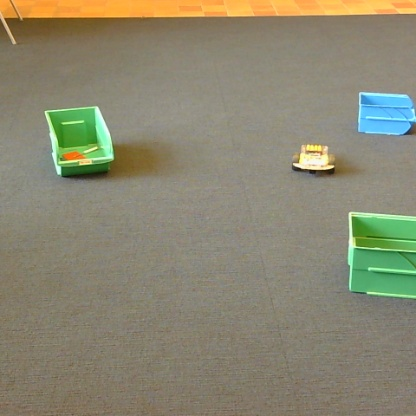robot: (293, 144, 334, 173)
